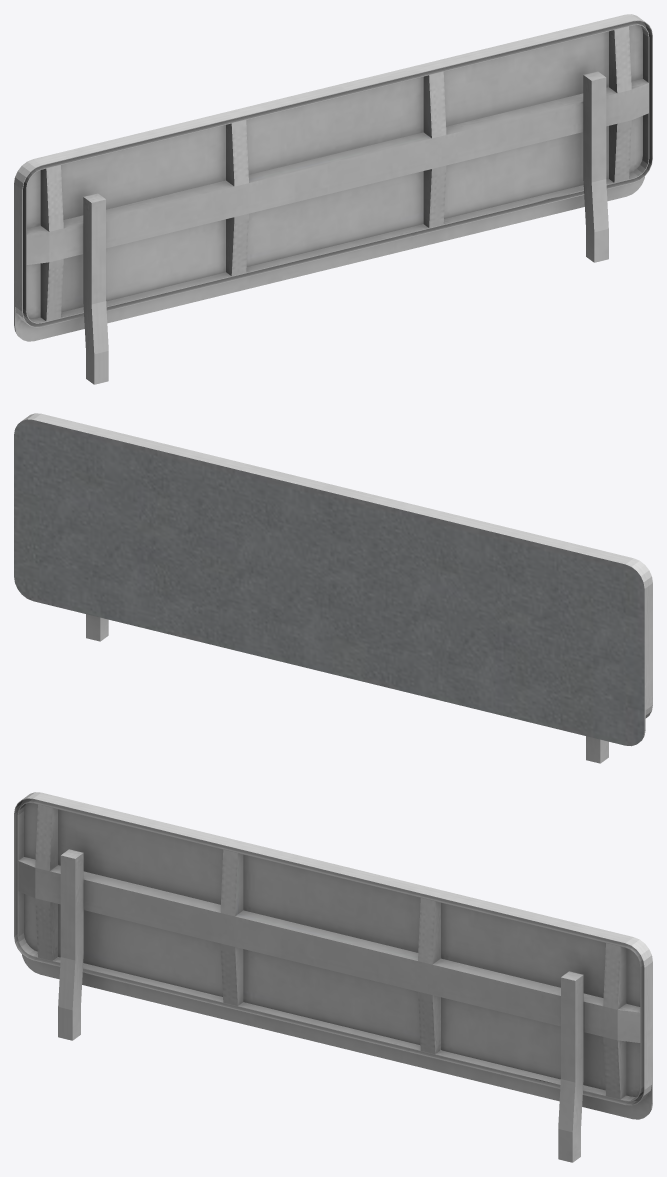
The model's file is ME1ARTrappe.fbx.
3 renders of one model, top to bottom at view 1: azimuth 30°, elevation 25°; view 2: azimuth 150°, elevation 25°; view 3: azimuth 330°, elevation 25°, orthographic.
Visible parts, largest first — view 1: ShapeIndexedFaceSet; view 2: ShapeIndexedFaceSet; view 3: ShapeIndexedFaceSet.
Boxes of the visible parts, bbox=[...] form: ShapeIndexedFaceSet: bbox=[14, 14, 652, 384]; ShapeIndexedFaceSet: bbox=[14, 413, 652, 763]; ShapeIndexedFaceSet: bbox=[14, 792, 652, 1162].
Bounding box in the file's own units: 6.49 × 2.15 × 0.3975.
